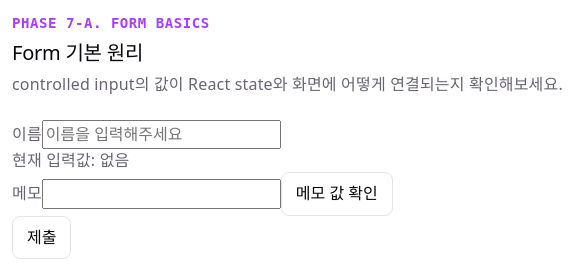
Test case: Phase 7-D Form 기본 원리 › 이름을 입력하면 controlled input과 현재 입력값을 갱신한다
The image size is (579, 276).
In the field labelled "이름": (161, 135) [42, 120, 281, 149], type "Kim"
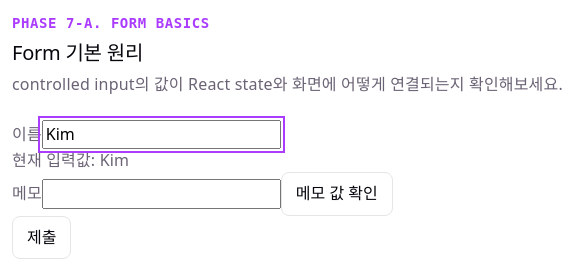
Expected: the text "현재 입력값: Kim" is shown, [12, 149, 129, 171]
